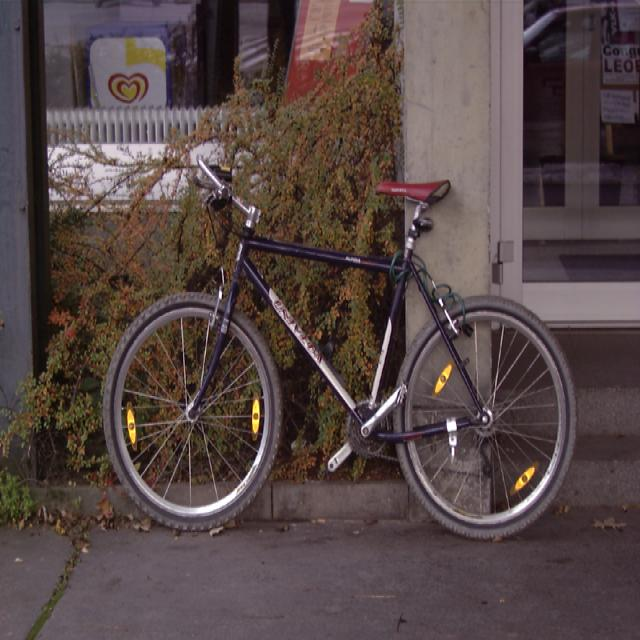bicycle: (101, 152, 577, 540)
